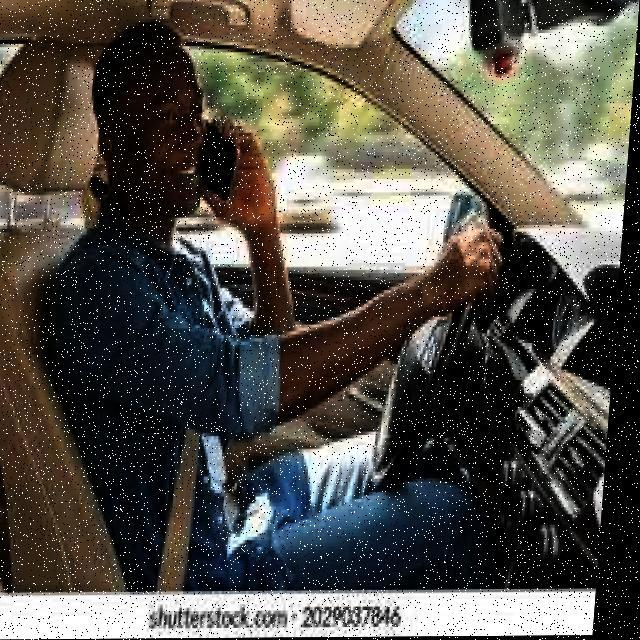seatbelt: (90, 220, 274, 592)
